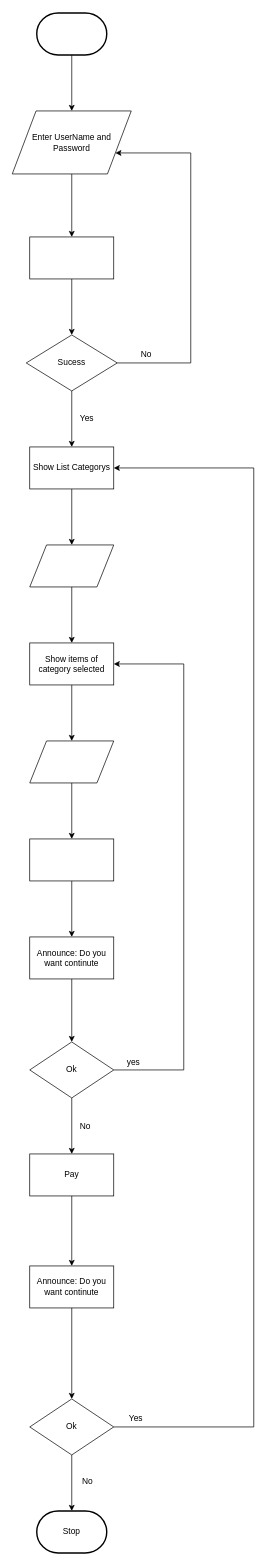
Image size: 272x1565. Some labels were removed from this diagram. Each missing label, with the centre of its shape:
Add to cart: the point at 71,859
Process: the point at 71,257
Select category: the point at 71,565
Select items: the point at 71,761
Start: the point at 71,33
